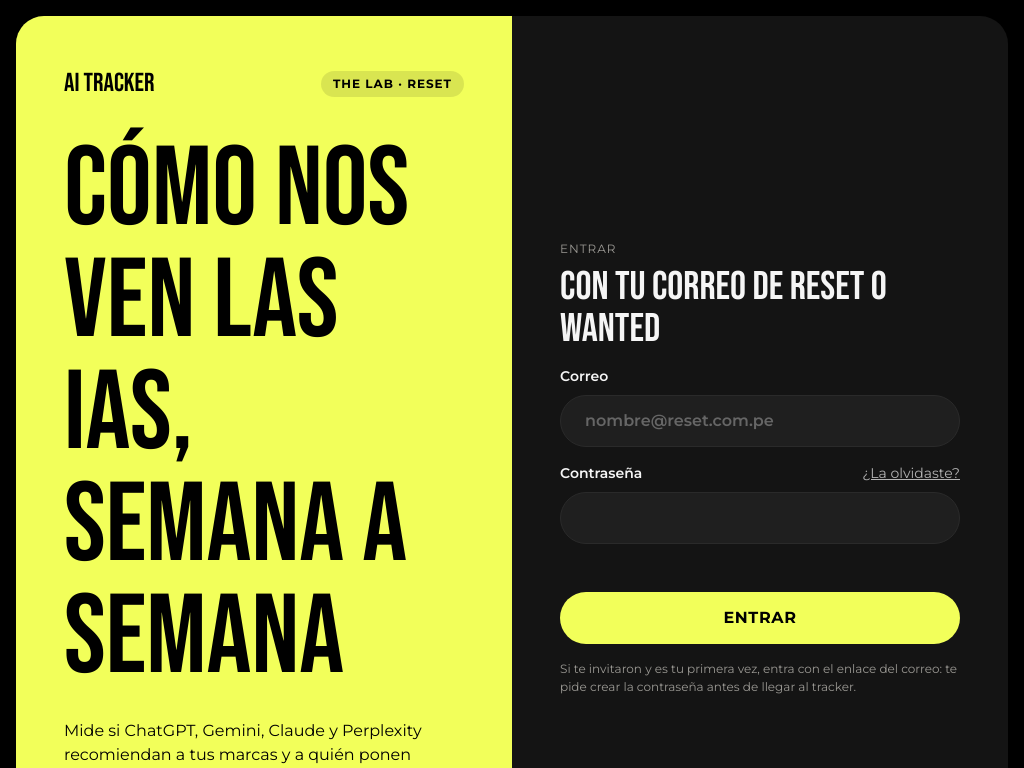
it: pantalla de acceso › si falla la conexión al pedir el enlace, lo dice con su propio texto
Type "ana@reset.com.pe" into the field labelled "Correo" at coordinates (760, 420), box [560,394,960,446]
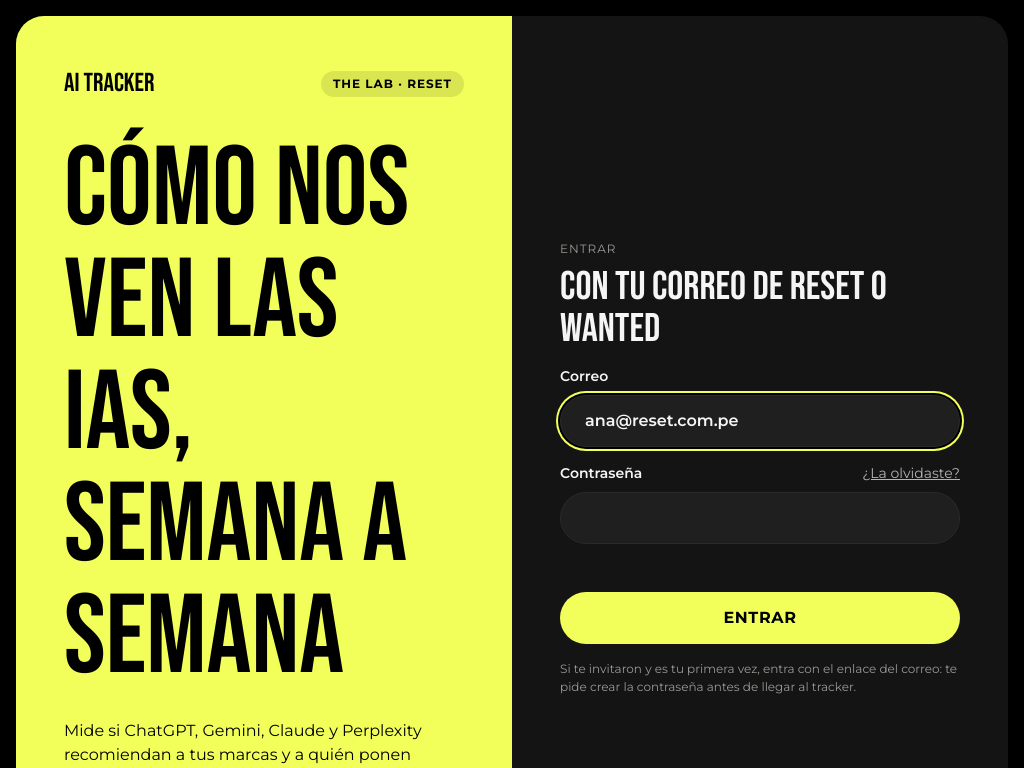
Click the button "¿La olvidaste?" at coordinates (911, 473), box [862,462,960,484]
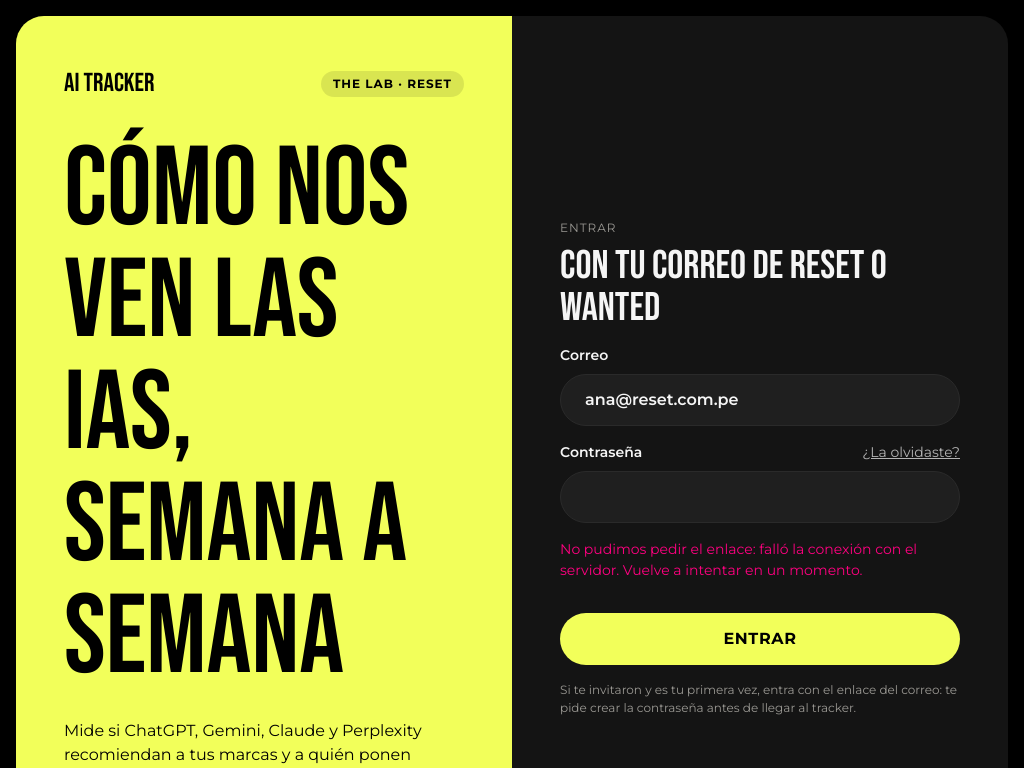
Now the text "No pudimos pedir el enlace: falló la conexión con el servidor. Vuelve a intentar en un momento." is shown, box [560,540,917,578]
